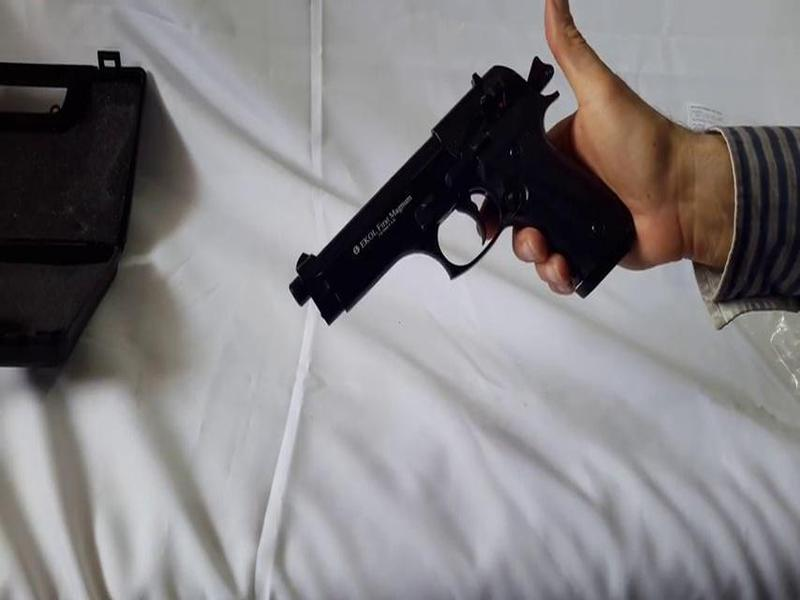Pistola: (245, 61, 656, 334)
